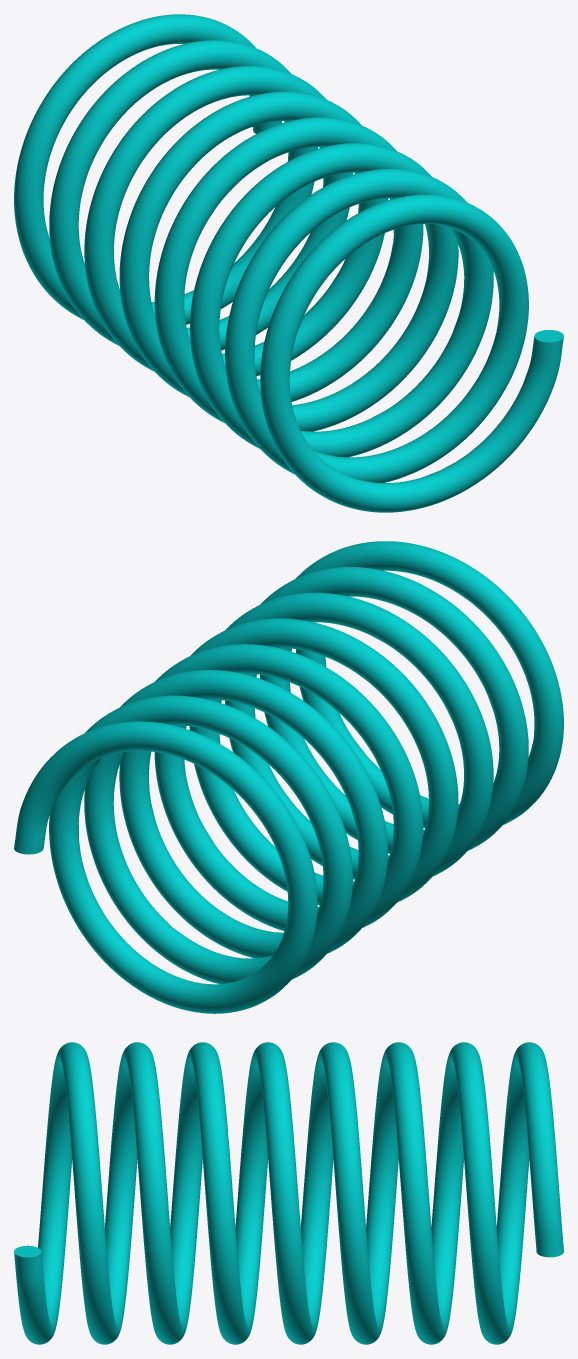
File: assembly.glb
The picture shows the model from 3 angles, top to bottom: view 1: azimuth 30°, elevation 25°; view 2: azimuth 150°, elevation 25°; view 3: azimuth 270°, elevation 25°; orthographic projection. The views are drawn at different scales.
Visible parts, largest first — view 1: spring-10x1x20/body; view 2: spring-10x1x20/body; view 3: spring-10x1x20/body.
Part boxes in pixels (box(x1,y1,x2,y2)): spring-10x1x20/body: box(14, 14, 563, 512); spring-10x1x20/body: box(14, 541, 563, 1013); spring-10x1x20/body: box(14, 1042, 563, 1344).
Bounding box in the file's own units: 0.011 × 0.011 × 0.02.
